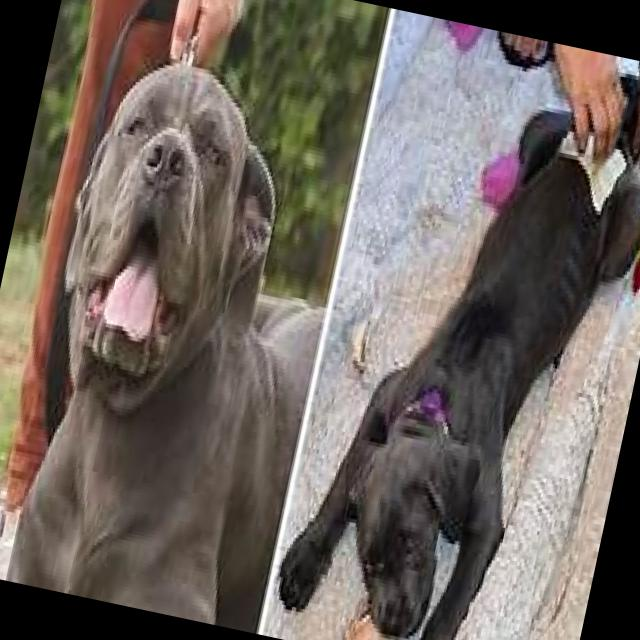animal: (266, 21, 640, 640), (0, 41, 370, 634)
